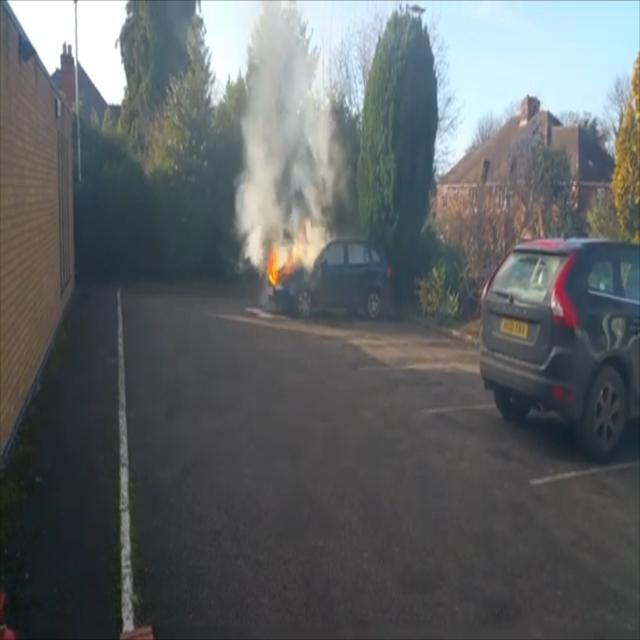fire: (258, 234, 296, 294)
